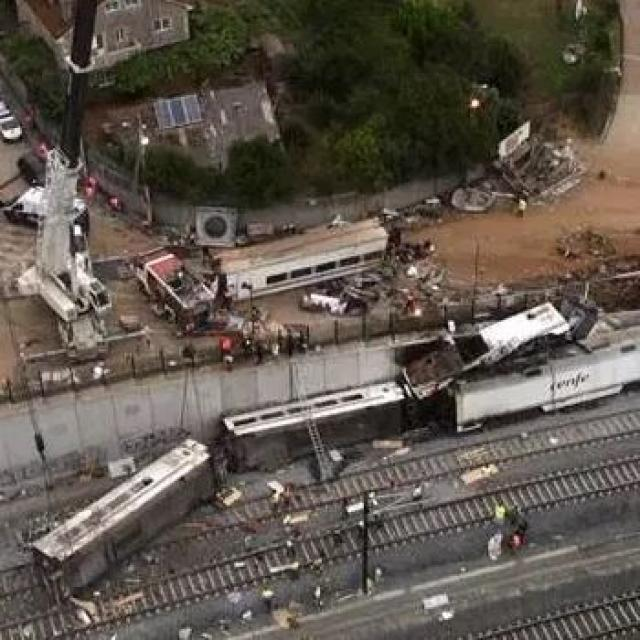traffic_incident: (395, 284, 634, 432), (230, 210, 428, 326), (124, 252, 223, 328), (494, 120, 574, 198)
